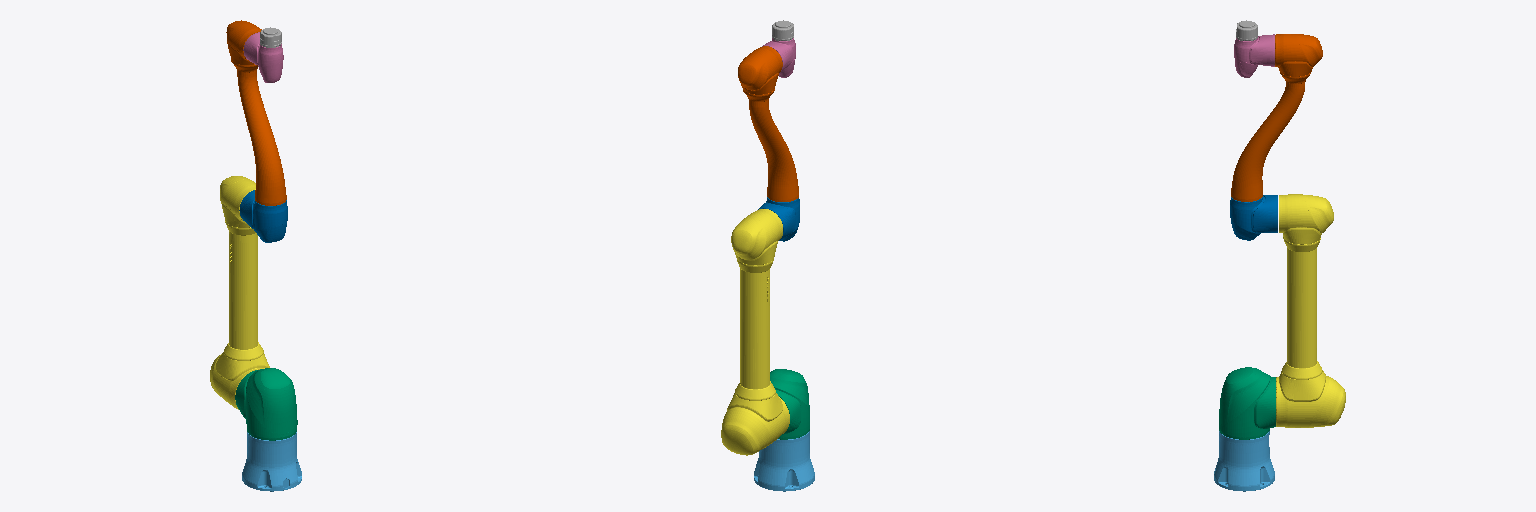
URDF robot description (doosanh2017):
<?xml version="1.0"?>
<!-- =================================================================================================== -->
<!-- |    This document was prepared by LarsVaehrens following the template from the kuka_allegro.urdf | -->
<!-- |    EDITING THIS FILE BY HAND IS NOT RECOMMENDED                                                 | -->
<!-- =================================================================================================== -->
<robot name="doosanh2017" xmlns:xacro="http://www.ros.org/wiki/xacro">
  <!-- materials -->
  <material name="black">
    <color rgba="0.0 0.0 0.0 1.0"/>
  </material>
  <material name="white">
    <color rgba="1.0 1.0 1.0 1.0"/>
  </material>
  <material name="orange">
    <color rgba="1.0 0.4 0.0 1.0"/>
  </material>
  <material name="dr_gray">
    <color rgba="0.490 0.490 0.486 1.0"/>
  </material>
  <material name="dr_white">
    <color rgba="0.941 0.941 0.941 1.0"/>
  </material>
  <!-- base_link -->
  <link name ="doosanh2017_base_link"/>
  <!--joint between base_link and link_0-->
  <joint name="doosanh2017_joint_0" type="fixed">
    <origin rpy="0 0 0" xyz="0 0 0 "/>
    <parent link="doosanh2017_base_link"/>
    <child link="doosanh2017_link_0"/>
  </joint>
  <!-- link_0 -->
  <link name="doosanh2017_link_0">
	<inertial>
      <mass value="3.722"/>
	  <origin xyz="-1.2e-05 -6e-05 0.050723"/>
	  <inertia ixx="0.011" ixy="-7.19e-06" ixz="-1.94e-06" iyy="0.011" iyz="4.9e-06" izz="0.014"/>
	</inertial>
	<visual>
	  <origin rpy="0 0 0" xyz="0 0 0"/>
	  <geometry>
		<mesh filename="doosanh2017/meshes/visual/H2017_0_0.obj" scale="0.001 0.001 0.001"/>
	  </geometry>
	</visual>
  </link>
  <!-- joint between link_0 and link_1 -->
  <joint name="doosanh2017_joint_1" type="revolute">
  	<parent link="doosanh2017_link_0"/>
  	<child link="doosanh2017_link_1"/>
  	<origin rpy="0 0 0" xyz="0 0 0.3443"/>
  	<axis xyz="0 0 1"/>
  	<limit effort="3460" lower="-6.283" upper="6.283" velocity="2.094"/>
  	<dynamics friction="0"/>
  </joint>
  <!-- link_1 -->
  <link name="doosanh2017_link_1">
  	<inertial>
  	  <mass value="7.446"/>
  	  <origin xyz="7e-05 0.044281 0.143327"/>
  	  <inertia ixx="0.039" ixy="2.1e-05" ixz="-3.61e-05" iyy="0.023" iyz="-0.003" izz="0.039"/>
  	</inertial>
    <collision>
      <geometry>
        <cylinder radius="0.1" length="0.2"/>
      </geometry>
    </collision>
  	<visual>
  	  <origin rpy="0 0 0" xyz="0 0 0"/>
  	  <geometry>
  	    <mesh filename="doosanh2017/meshes/visual/H2017_1_0.obj" scale="0.001 0.001 0.001"/>
  	  </geometry>
    </visual>
  </link>
  <!-- joint between link_1 and link_2 -->
  <joint name="doosanh2017_joint_2" type="revolute">
    <parent link="doosanh2017_link_1"/>
    <child link="doosanh2017_link_2"/>
    <origin rpy="0 -1.571 -1.571" xyz="0 0.0099 0"/>
    <axis xyz="0 0 1"/>
    <limit effort="3460" lower="-1.658" upper="1.658" velocity="2.094"/>
    <dynamics friction="0"/>
  </joint>
  <!-- link_2 -->
  <link name="doosanh2017_link_2">
  	 <inertial>
  	   <mass value="10.569"/>
  	   <origin xyz="-1.6e-05 0.189372 0.418558"/>
  	   <inertia ixx="0.820" ixy="1.19e-05" ixz="-0.000263" iyy="0.82" iyz="-0.008" izz="0.031"/>
  	 </inertial>
     <collision>
       <origin rpy="0 -1.571 0" xyz="0.3 0 0.1525"/>
       <geometry>
         <cylinder radius="0.08" length="0.75"/>
       </geometry>
     </collision>
  	 <visual>
  	   <origin rpy="0 0 0" xyz="0 0 0"/>
  	   <geometry>
  		 <mesh filename="doosanh2017/meshes/visual/H2017_2_0.obj" scale="0.001 0.001 0.001"/>
  	   </geometry>
  	 </visual>
  	 <visual>
  	   <origin rpy="0 0 0" xyz="0 0 0"/>
  	   <geometry>
  		 <mesh filename="doosanh2017/meshes/visual/H2017_2_1.obj" scale="0.001 0.001 0.001"/>
  	   </geometry>
  	 </visual>
  	 <visual>
  	   <origin rpy="0 0 0" xyz="0 0 0"/>
  	   <geometry>
  		 <mesh filename="doosanh2017/meshes/visual/H2017_2_2.obj" scale="0.001 0.001 0.001"/>
  	   </geometry>
  	 </visual>
  </link>
  <!-- joint between link_2 and link_3 -->
  <joint name="doosanh2017_joint_3" type="revolute">
  	 <parent link="doosanh2017_link_2"/>
  	 <child link="doosanh2017_link_3"/>
  	 <origin rpy="0 0 1.571" xyz="0.845 0 0"/>
  	 <axis xyz="0 0 1"/>
  	 <limit effort="1630" lower="-2.356" upper="2.356" velocity="3.142"/>
  	 <dynamics friction="0"/>
  </joint>
  <!-- link_3 -->
  <link name="doosanh2017_link_3">
  	 <inertial>
  	   <mass value="3.614"/>
  	   <origin xyz="6e-06 0.07917 0.781807"/>
  	   <inertia ixx="0.012" ixy="-4.38e-06" ixz="-1.2e-06" iyy="0.008" iyz="0.002" izz="0.011"/>
  	 </inertial>
     <visual>
  	   <origin rpy="0 0 0" xyz="0 0 0"/>
  	   <geometry>
  	     <mesh filename="doosanh2017/meshes/visual/H2017_3_0.obj" scale="0.001 0.001 0.001"/>
  	   </geometry>
  	 </visual>
  </link>
  <!-- joint between link_3 and link_4 -->
  <joint name="doosanh2017_joint_4" type="revolute">
  	 <parent link="doosanh2017_link_3"/>
  	 <child link="doosanh2017_link_4"/>
  	 <origin rpy="1.571 0 0" xyz="0 -0.734 0"/>
  	 <axis xyz="0 0 1"/>
  	 <limit effort="50" lower="-6.283" upper="6.283" velocity="3.927"/>
  	 <dynamics friction="0"/>
  </joint>
  <!-- link_4 -->
  <link name="doosanh2017_link_4">
    <inertial>
      <mass value="3.785"/>
      <origin xyz="-2.1e-05 0.12337 1.148"/>
      <inertia ixx="0.177" ixy="-2.34e-06" ixz="-4.92e-06" iyy="0.161" iyz="-0.05" izz="0.022"/>
    </inertial>
      <collision>
        <origin rpy="-0.55 0 0" xyz="0 0.07 -0.3"/>
        <geometry>
          <cylinder radius="0.07" length="0.4"/>
        </geometry>
      </collision>
    <visual>
      <origin rpy="0 0 0" xyz="0 0 0"/>
      <geometry>
    	<mesh filename="doosanh2017/meshes/visual/H2017_4_0.obj" scale="0.001 0.001 0.001"/>
      </geometry>
    </visual>
    <visual>
      <origin rpy="0 0 0" xyz="0 0 0"/>
      <geometry>
        <mesh filename="doosanh2017/meshes/visual/H2017_4_1.obj" scale="0.001 0.001 0.001"/>
      </geometry>
    </visual>
  </link>
  <!-- joint between link_4 and link_5 -->
  <joint name="doosanh2017_joint_5" type="revolute">
  	 <parent link="doosanh2017_link_4"/>
  	 <child link="doosanh2017_link_5"/>
  	 <origin rpy="-1.571 0 0" xyz="0 0 0"/>
  	 <axis xyz="0 0 1"/>
  	 <limit effort="50" lower="-2.356" upper="2.356" velocity="3.927"/>
  	 <dynamics friction="0"/>
  </joint>
  <!-- link_5 -->
  <link name="doosanh2017_link_5">
  	<inertial>
  	  <mass value="2.598"/>
  	  <origin xyz="-1.7e-05 0.06662 1.33103"/>
  	  <inertia ixx="0.007" ixy="-4.93e-06" ixz="-5.57e-06" iyy="0.004" iyz="-6.64e-05" izz="0.007"/>
  	</inertial>
      <collision>
        <origin rpy="1.571 0 0" xyz="0 0 0"/>
        <geometry>
          <cylinder radius="0.08" length="0.15"/>
        </geometry>
      </collision>
  	<visual>
  	  <origin rpy="0 0 0" xyz="0 0 0"/>
  	  <geometry>
  	    <mesh filename="doosanh2017/meshes/visual/H2017_5_0.obj" scale="0.001 0.001 0.001"/>
  	  </geometry>
  	</visual>
  </link>
  <!-- joint between link_5 and link_6 -->
  <joint name="doosanh2017_joint_6" type="revolute">
  	 <parent link="doosanh2017_link_5"/>
  	 <child link="doosanh2017_link_6"/>
  	 <origin rpy="1.571 0 0" xyz="0 -0.121 0"/>
  	 <axis xyz="0 0 1"/>
  	 <limit effort="50" lower="-6.283" upper="6.283" velocity="3.927"/>
  	 <dynamics friction="0"/>
  </joint>
  <!-- link_6 -->
  <link name="doosanh2017_link_6">
  	<inertial>
  	  <mass value="1.128"/>
  	  <origin xyz="-0.000174 0.034708 1.40022"/>
  	  <inertia ixx="0.001" ixy="-2.79e-06" ixz="5.78e-06" iyy="0.001" iyz="-6.67e-06" izz="0.001"/>
  	</inertial>
  	<visual>
  	  <origin rpy="0 0 0" xyz="0 0 0"/>
  	  <geometry>
  		<mesh filename="doosanh2017/meshes/visual/H2017_6_0.obj" scale="0.001 0.001 0.001"/>
  	  </geometry>
  	</visual>
  </link>
  <!-- joint between link_6 and link_ee -->
  <joint name="doosanh2017_joint_ee" type="fixed">
    <parent link="doosanh2017_link_6"/>
    <child link="doosanh2017_link_ee"/>
    <origin xyz="0 0 0.0" rpy="0 0 0"/>
  </joint>
  <!-- link_ee --> <!-- fake link -->
  <link name="doosanh2017_link_ee">
  </link>
  <!-- gazebo reference -->
  <gazebo reference="doosanh2017_link_0">
  	<kp>1000000.0</kp>
  	<kd>100.0</kd>
  	<mu1>30.0</mu1>
  	<mu2>30.0</mu2>
  	<maxVel>1.0</maxVel>
  	<minDepth>0.001</minDepth>
  </gazebo>
  <gazebo reference="doosanh2017_link_1">
  	<kp>1000000.0</kp>
  	<kd>100.0</kd>
  	<mu1>30.0</mu1>
  	<mu2>30.0</mu2>
  	<maxVel>1.0</maxVel>
  	<minDepth>0.001</minDepth>
  </gazebo>
  <gazebo reference="doosanh2017_link_2">
  	<kp>1000000.0</kp>
  	<kd>100.0</kd>
  	<mu1>30.0</mu1>
  	<mu2>30.0</mu2>
  	<maxVel>1.0</maxVel>
  	<minDepth>0.001</minDepth>
  </gazebo>
  <gazebo reference="doosanh2017_link_3">
  	<kp>1000000.0</kp>
  	<kd>100.0</kd>
  	<mu1>30.0</mu1>
  	<mu2>30.0</mu2>
  	<maxVel>1.0</maxVel>
  	<minDepth>0.001</minDepth>
  </gazebo>
  <gazebo reference="doosanh2017_link_4">
  	<kp>1000000.0</kp>
  	<kd>100.0</kd>
  	<mu1>30.0</mu1>
  	<mu2>30.0</mu2>
  	<maxVel>1.0</maxVel>
  	<minDepth>0.001</minDepth>
  </gazebo>
  <gazebo reference="doosanh2017_link_5">
    <kp>1000000.0</kp>
    <kd>100.0</kd>
    <mu1>30.0</mu1>
    <mu2>30.0</mu2>
    <maxVel>1.0</maxVel>
    <minDepth>0.001</minDepth>
  </gazebo>
  <gazebo reference="doosanh2017_link_6">
    <kp>1000000.0</kp>
    <kd>100.0</kd>
    <mu1>30.0</mu1>
    <mu2>30.0</mu2>
    <maxVel>1.0</maxVel>
    <minDepth>0.001</minDepth>
  </gazebo>
  <!-- transmission and motors -->
  <transmission name="doosanh2017_tran_1">
  	<type>transmission_interface/SimpleTransmission</type>
  	<joint name="doosanh2017_joint_1">
  	  <hardwareInterface>PositionJointInterface</hardwareInterface>
  	</joint>
  	<actuator name="doosanh2017_motor_1">
  	  <hardwareInterface>PositionJointInterface</hardwareInterface>
  	  <mechanicalReduction>1</mechanicalReduction>
  	</actuator>
  </transmission>
  <transmission name="doosanh2017_tran_2">
  	<type>transmission_interface/SimpleTransmission</type>
  	<joint name="doosanh2017_joint_2">
  	  <hardwareInterface>PositionJointInterface</hardwareInterface>
  	</joint>
  	<actuator name="doosanh2017_motor_2">
  	  <hardwareInterface>PositionJointInterface</hardwareInterface>
  	  <mechanicalReduction>1</mechanicalReduction>
  	</actuator>
  </transmission>
  <transmission name="doosanh2017_tran_3">
  	<type>transmission_interface/SimpleTransmission</type>
  	<joint name="doosanh2017_joint_3">
  	  <hardwareInterface>PositionJointInterface</hardwareInterface>
  	</joint>
  	<actuator name="doosanh2017_motor_3">
  	  <hardwareInterface>PositionJointInterface</hardwareInterface>
  	  <mechanicalReduction>1</mechanicalReduction>
  	</actuator>
  </transmission>
  <transmission name="doosanh2017_tran_4">
  	<type>transmission_interface/SimpleTransmission</type>
  	<joint name="doosanh2017_joint_4">
  	  <hardwareInterface>PositionJointInterface</hardwareInterface>
  	</joint>
  	<actuator name="doosanh2017_motor_4">
  	  <hardwareInterface>PositionJointInterface</hardwareInterface>
  	  <mechanicalReduction>1</mechanicalReduction>
  	</actuator>
  </transmission>
  <transmission name="doosanh2017_tran_5">
  	<type>transmission_interface/SimpleTransmission</type>
  	<joint name="doosanh2017_joint_5">
  	  <hardwareInterface>PositionJointInterface</hardwareInterface>
  	</joint>
  	<actuator name="doosanh2017_motor_5">
  	  <hardwareInterface>PositionJointInterface</hardwareInterface>
  	  <mechanicalReduction>1</mechanicalReduction>
  	</actuator>
  </transmission>
  <transmission name="doosanh2017_tran_6">
    <type>transmission_interface/SimpleTransmission</type>
  	<joint name="doosanh2017_joint_6">
  	  <hardwareInterface>PositionJointInterface</hardwareInterface>
  	</joint>
  	<actuator name="doosanh2017_motor_6">
  	  <hardwareInterface>PositionJointInterface</hardwareInterface>
  	  <mechanicalReduction>1</mechanicalReduction>
  	</actuator>
  </transmission>
</robot>

--- Render facts (derived) ---
3 views of the same robot in one strip: view 1: azimuth 30°, elevation 25°; view 2: azimuth 150°, elevation 25°; view 3: azimuth 270°, elevation 25° (orthographic).
Robot: doosanh2017 — 9 links, 8 joints (6 revolute, 2 fixed); root link doosanh2017_base_link; default pose: all joints at 0.
Visible links, largest first — view 1: doosanh2017_link_2, doosanh2017_link_4, doosanh2017_link_1, doosanh2017_link_0, doosanh2017_link_3, doosanh2017_link_5; view 2: doosanh2017_link_2, doosanh2017_link_4, doosanh2017_link_0, doosanh2017_link_1, doosanh2017_link_3, doosanh2017_link_5; view 3: doosanh2017_link_2, doosanh2017_link_4, doosanh2017_link_1, doosanh2017_link_0, doosanh2017_link_3, doosanh2017_link_5.
Boxes of the visible links, x1=… form: doosanh2017_link_2: x1=210, y1=176, x2=269, y2=409; doosanh2017_link_4: x1=226, y1=20, x2=286, y2=205; doosanh2017_link_1: x1=235, y1=368, x2=297, y2=440; doosanh2017_link_0: x1=242, y1=432, x2=301, y2=491; doosanh2017_link_3: x1=239, y1=190, x2=287, y2=242; doosanh2017_link_5: x1=243, y1=32, x2=283, y2=82; doosanh2017_link_2: x1=721, y1=209, x2=789, y2=455; doosanh2017_link_4: x1=738, y1=46, x2=798, y2=201; doosanh2017_link_0: x1=754, y1=431, x2=814, y2=491; doosanh2017_link_1: x1=770, y1=369, x2=809, y2=439; doosanh2017_link_3: x1=758, y1=197, x2=799, y2=241; doosanh2017_link_5: x1=762, y1=38, x2=795, y2=77; doosanh2017_link_2: x1=1276, y1=194, x2=1345, y2=427; doosanh2017_link_4: x1=1231, y1=34, x2=1322, y2=201; doosanh2017_link_1: x1=1219, y1=367, x2=1275, y2=439; doosanh2017_link_0: x1=1214, y1=431, x2=1274, y2=491; doosanh2017_link_3: x1=1230, y1=195, x2=1277, y2=240; doosanh2017_link_5: x1=1234, y1=34, x2=1274, y2=77.
Size in the robot's own frame: 0.248 by 0.5376 by 2.04 metres.
Meshes: 10 distinct files referenced, 10 mesh visuals loaded (10 OBJ).
